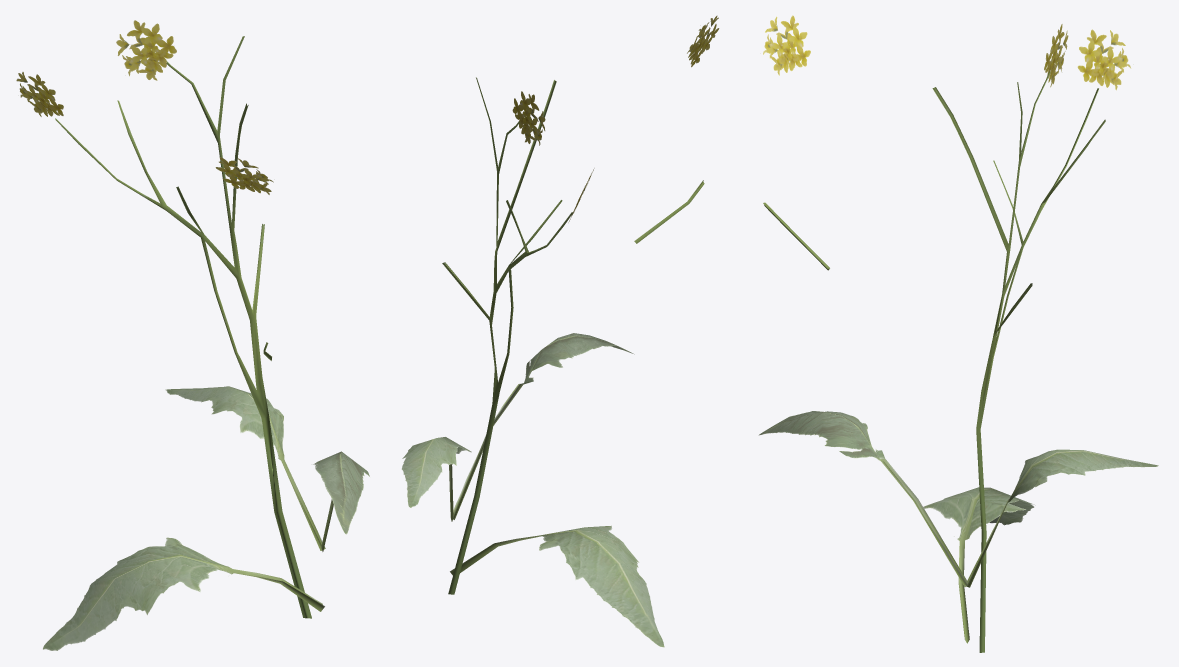
File: flower_yellow_lod1.glb
3 views of the same model, side by side, from view 1: azimuth 30°, elevation 25°; view 2: azimuth 150°, elevation 25°; view 3: azimuth 270°, elevation 25° (orthographic). The views are drawn at different scales.
Visible parts, largest first — view 1: bq_Flower_Bunias-orientalis_A_summer; view 2: bq_Flower_Bunias-orientalis_A_summer; view 3: bq_Flower_Bunias-orientalis_A_summer.
Part boxes in pixels (x1,y1,x2,y2): bq_Flower_Bunias-orientalis_A_summer: [16, 20, 369, 650]; bq_Flower_Bunias-orientalis_A_summer: [401, 15, 719, 647]; bq_Flower_Bunias-orientalis_A_summer: [758, 15, 1158, 652].
Bounding box in the file's own units: 0.3539 × 0.7835 × 0.5162.
2 materials, 2 textured.
